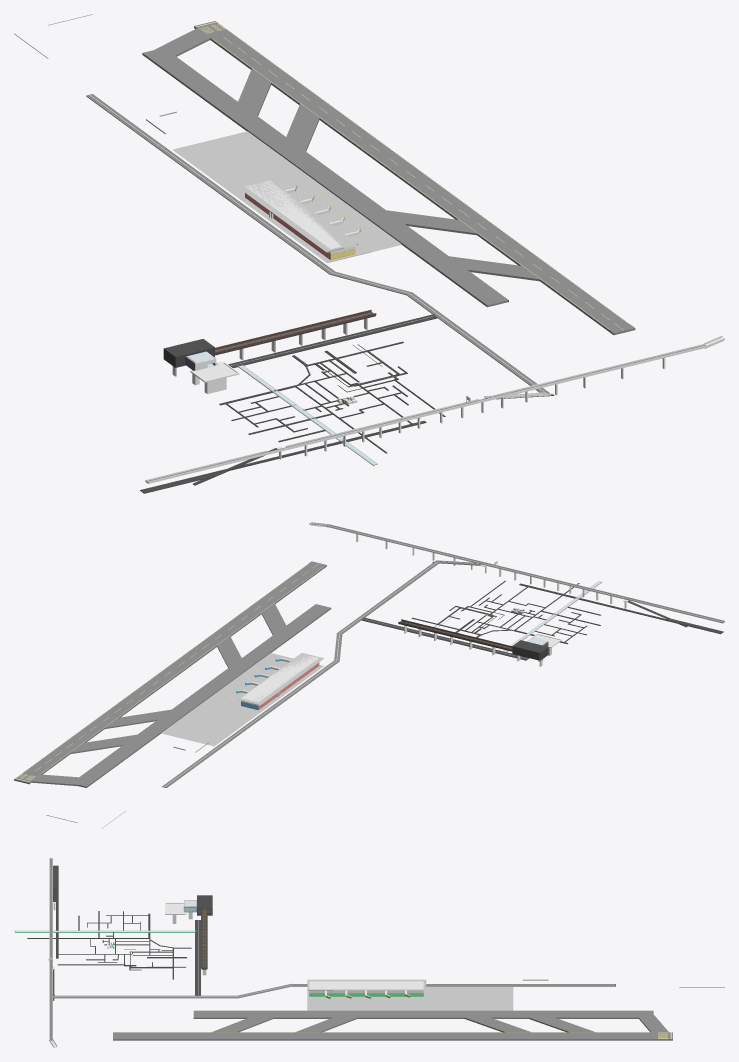
3 views of the same model, one above another, from view 1: azimuth 30°, elevation 25°; view 2: azimuth 150°, elevation 25°; view 3: azimuth 270°, elevation 25° (orthographic). The views are drawn at different scales.
Parts seen in each view (by area): view 1: cube (×15); view 2: cube (×15); view 3: cube (×17), mesh.
Part boxes in pixels (box(x1,y1,x2,y2)): cube (×15): box(14, 14, 707, 483); cube (×15): box(14, 524, 724, 828); cube (×17): box(15, 858, 724, 1040); mesh: box(201, 908, 207, 969).
Size of the model in its own units: 58.74 by 2.73 by 93.31.
Materials: 88 (79 with a texture image).
